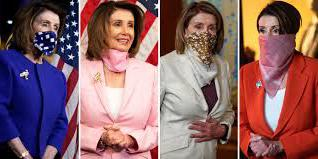mask_weared_incorrect: (106, 19, 134, 60)
with_mask: (187, 21, 217, 45), (35, 20, 59, 44), (258, 22, 281, 47)
